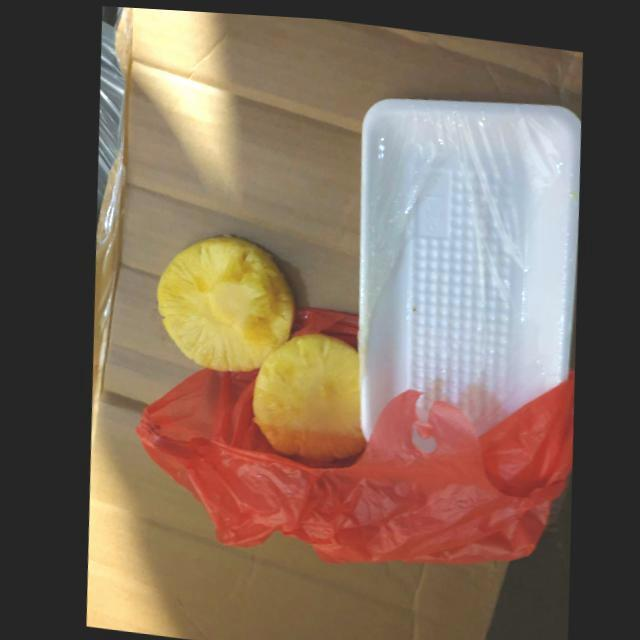cardboard: (80, 6, 582, 640)
plastic_bag: (130, 360, 571, 559)
